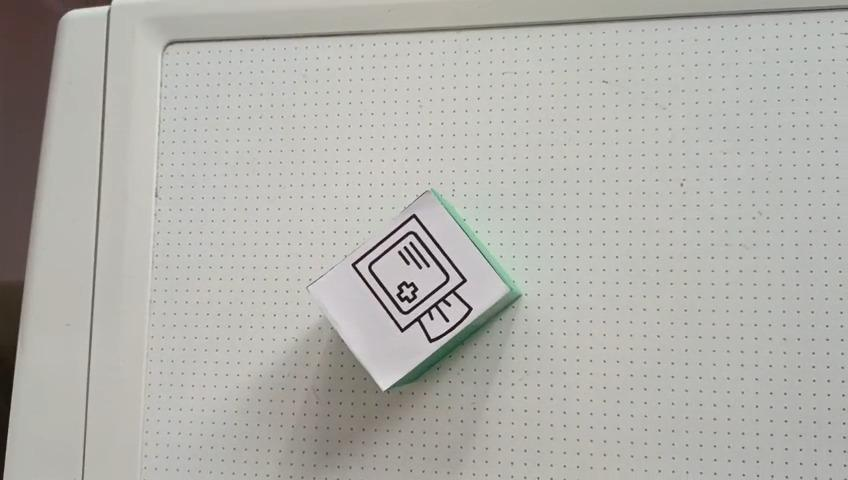Gauze: (305, 186, 522, 392)
